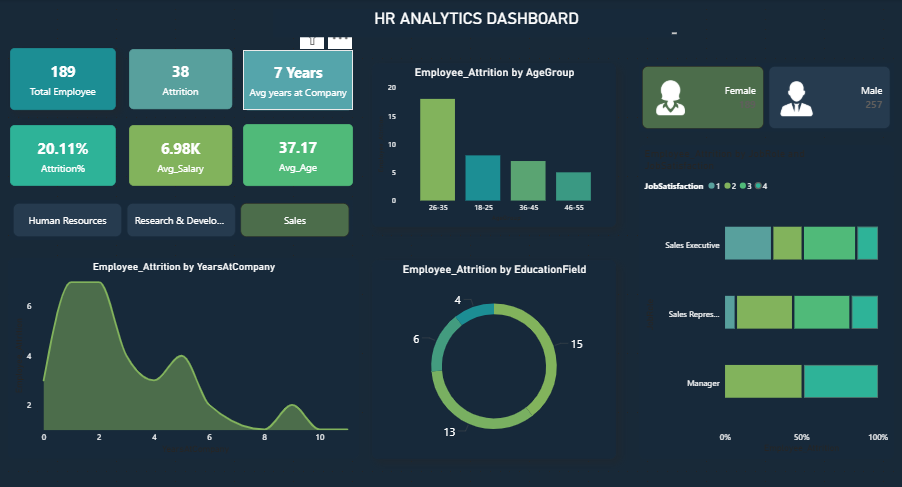

The dashboard page shown, as its layout file describes it:
{"tool":"powerbi","page":{"name":"DasBoard","canvas":[1480,810],"ordinal":0},"visuals":[{"type":"card","fields":{"Values":["HR_Analytics.Employee_Count"]},"box":[19.5,79.7,172.5,100.9],"z":0},{"type":"card","fields":{"Values":["HR_Analytics.Employee_Attrition"]},"box":[213.2,81.4,167.6,97.6],"z":1000},{"type":"card","fields":{"Values":["HR_Analytics.Years_With_Text"]},"box":[398.6,83,179,97.6],"z":2000},{"type":"card","fields":{"Values":["HR_Analytics.Attrition%"]},"box":[19.5,205,172.5,99.3],"z":3000},{"type":"card","fields":{"Values":["HR_Analytics.Avg_Salary"]},"box":[213.2,205,167.6,99.3],"z":4000},{"type":"card","fields":{"Values":["HR_Analytics.Avg_Age"]},"box":[398.6,203.4,179,100.9],"z":5000},{"type":"areaChart","fields":{"Y":["HR_Analytics.Employee_Attrition"],"Category":["HR_Analytics.YearsAtCompany"]},"box":[16.3,421.4,571.1,327.1],"z":6000},{"type":"donutChart","fields":{"Y":["HR_Analytics.Employee_Attrition"],"Category":["HR_Analytics.EducationField"]},"box":[608.5,424.7,397,323.8],"z":7000},{"type":"clusteredColumnChart","fields":{"Category":["HR_Analytics.AgeGroup"],"Y":["HR_Analytics.Employee_Attrition"]},"box":[608.5,104.1,397,266.8],"z":8000},{"type":"hundredPercentStackedBarChart","fields":{"Y":["HR_Analytics.Employee_Attrition"],"Series":["HR_Analytics.JobSatisfaction"],"Category":["HR_Analytics.JobRole"]},"box":[1043,237.6,414.9,510.9],"z":9000},{"type":"advancedSlicerVisual","fields":{"Values":["HR_Analytics.Gender"]},"box":[1043,104.1,414.9,112.3],"z":10000,"group":"g1"},{"type":"advancedSlicerVisual","fields":{"Values":["HR_Analytics.Department"]},"box":[19.5,327.1,558.1,65.1],"z":10000},{"type":"image","box":[1060.6,116.8,66.8,86.9],"z":11000,"group":"g1"},{"type":"group","id":"g1","title":"Group 1","box":[1043,104.1,414.9,112.3],"z":11000},{"type":"image","box":[1266.3,118.9,66.8,86.9],"z":12000,"group":"g1"},{"type":"textbox","title":"HR ANALYTICS DASHBOARD ","box":[447.5,16.3,662.2,45.6],"z":12000}]}

Visuals, with their boxes in screenshot pixels (x1, y1, x2, y2), scaled from the page's 1480x810 canvas onto the 902x487 screenshot:
card - HR_Analytics.Employee_Count: [12,48,117,109]
card - HR_Analytics.Employee_Attrition: [130,49,232,108]
card - HR_Analytics.Years_With_Text: [243,50,352,109]
card - HR_Analytics.Attrition%: [12,123,117,183]
card - HR_Analytics.Avg_Salary: [130,123,232,183]
card - HR_Analytics.Avg_Age: [243,122,352,183]
areaChart - HR_Analytics.Employee_Attrition x HR_Analytics.YearsAtCompany: [10,253,358,450]
donutChart - HR_Analytics.Employee_Attrition x HR_Analytics.EducationField: [371,255,613,450]
clusteredColumnChart - HR_Analytics.AgeGroup x HR_Analytics.Employee_Attrition: [371,63,613,223]
hundredPercentStackedBarChart - HR_Analytics.Employee_Attrition x HR_Analytics.JobSatisfaction: [636,143,889,450]
advancedSlicerVisual - HR_Analytics.Gender: [636,63,889,130]
advancedSlicerVisual - HR_Analytics.Department: [12,197,352,236]
image: [646,70,687,122]
"Group 1" group: [636,63,889,130]
image: [772,71,812,124]
"HR ANALYTICS DASHBOARD " textbox: [273,10,676,37]
